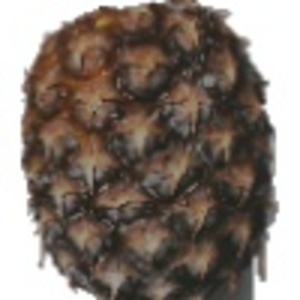abacaxi: (14, 4, 285, 295)
